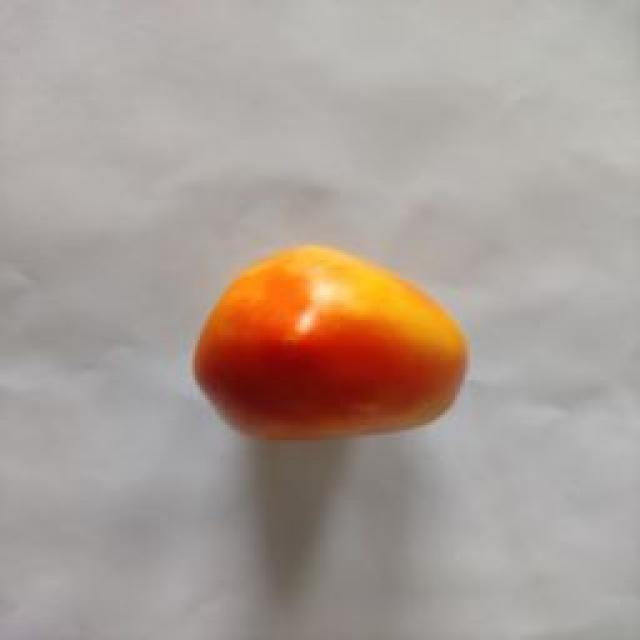tomato: (194, 244, 469, 440)
